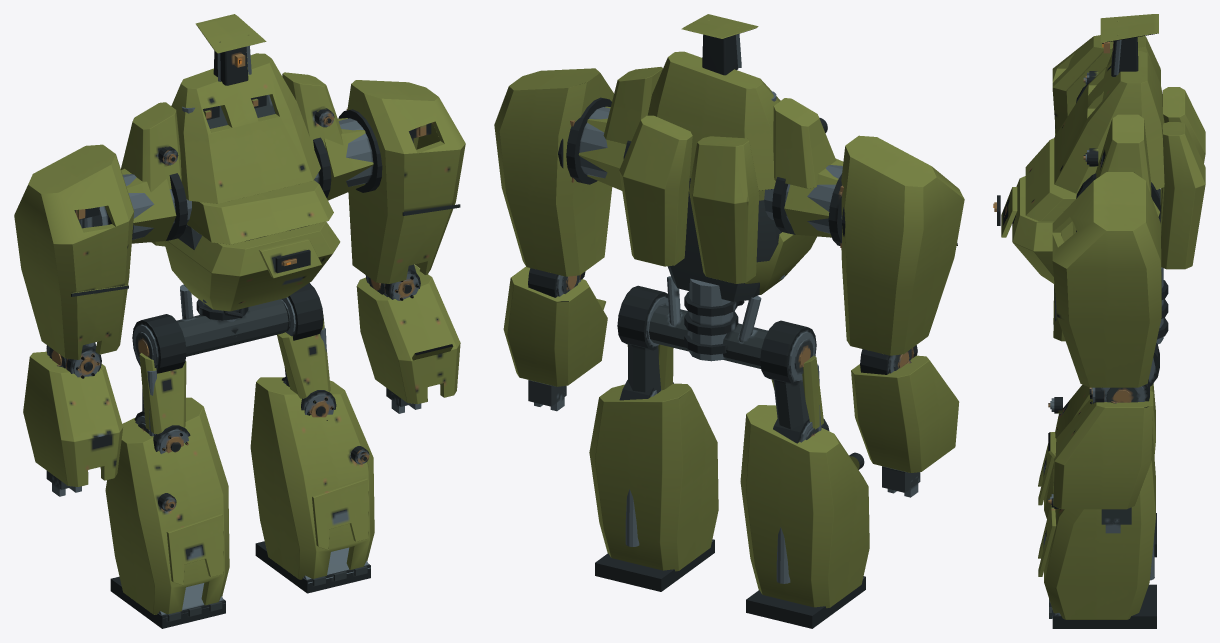
File: boxguard-rifle-grunt-v1.glb
3 renders of one model, left to right at view 1: azimuth 30°, elevation 25°; view 2: azimuth 150°, elevation 25°; view 3: azimuth 270°, elevation 25°, orthographic. The views are drawn at different scales.
Visible parts, largest first — view 1: PLATE_upper_arm.R, PLATE_shin.L, PLATE_shin.R, PLATE_upper_arm.L, PLATE_chest_upper, PLATE_forearm.R, PLATE_chest_lower, PLATE_forearm.L, PLATE_chest_transom, CORE_pelvis, PLATE_riser.R, CORE_thigh.R (+17 smaller); view 2: PLATE_upper_arm.R, PLATE_shin.R, PLATE_shin.L, PLATE_upper_arm.L, PLATE_forearm.R, PLATE_chest_upper, PLATE_forearm.L, PLATE_back.L, PLATE_back.R, CORE_pelvis, PLATE_riser.R, CORE_thigh.R (+19 smaller); view 3: PLATE_upper_arm.L, PLATE_shin.L, PLATE_forearm.L, PLATE_chest_upper, PLATE_back.L, PLATE_upper_arm.R, PLATE_chest_lower, PLATE_riser.L, PLATE_chest_transom, PLATE_shin.R, CORE_foot.L, PLATE_back.R (+6 smaller).
Part boxes in pixels (left/top/right/bottom): PLATE_upper_arm.R: left=14, top=144, right=134, bottom=359; PLATE_shin.L: left=250, top=377, right=374, bottom=579; PLATE_shin.R: left=105, top=397, right=229, bottom=614; PLATE_upper_arm.L: left=347, top=80, right=465, bottom=283; PLATE_chest_upper: left=171, top=53, right=320, bottom=203; PLATE_forearm.R: left=23, top=351, right=123, bottom=486; PLATE_chest_lower: left=164, top=221, right=340, bottom=311; PLATE_forearm.L: left=356, top=264, right=460, bottom=404; PLATE_chest_transom: left=187, top=180, right=333, bottom=244; CORE_pelvis: left=177, top=284, right=288, bottom=356; PLATE_riser.R: left=121, top=102, right=181, bottom=192; CORE_thigh.R: left=132, top=314, right=186, bottom=436; PLATE_upper_arm.R: left=841, top=135, right=964, bottom=355; PLATE_shin.R: left=740, top=405, right=869, bottom=608; PLATE_shin.L: left=589, top=383, right=718, bottom=571; PLATE_upper_arm.L: left=494, top=68, right=613, bottom=276; PLATE_forearm.R: left=851, top=355, right=959, bottom=472; PLATE_chest_upper: left=647, top=51, right=780, bottom=190; PLATE_forearm.L: left=503, top=266, right=607, bottom=386; PLATE_back.L: left=619, top=115, right=692, bottom=266; PLATE_back.R: left=689, top=136, right=759, bottom=283; CORE_pelvis: left=649, top=276, right=767, bottom=368; PLATE_riser.R: left=773, top=98, right=836, bottom=188; CORE_thigh.R: left=760, top=320, right=821, bottom=431; PLATE_upper_arm.L: left=1052, top=172, right=1161, bottom=387; PLATE_shin.L: left=1038, top=431, right=1155, bottom=619; PLATE_forearm.L: left=1048, top=391, right=1153, bottom=509; PLATE_chest_upper: left=1054, top=51, right=1164, bottom=193; PLATE_back.L: left=1160, top=122, right=1205, bottom=269; PLATE_upper_arm.R: left=1052, top=35, right=1160, bottom=135; PLATE_chest_lower: left=993, top=176, right=1054, bottom=283; PLATE_riser.L: left=1083, top=114, right=1151, bottom=195; PLATE_chest_transom: left=1025, top=138, right=1076, bottom=221; PLATE_shin.R: left=1038, top=383, right=1155, bottom=518; CORE_foot.L: left=1049, top=584, right=1156, bottom=628; PLATE_back.R: left=1160, top=87, right=1205, bottom=223.
Bounding box in the file's own units: 2.59 × 3.27 × 1.14.
1 material, 1 textured.
